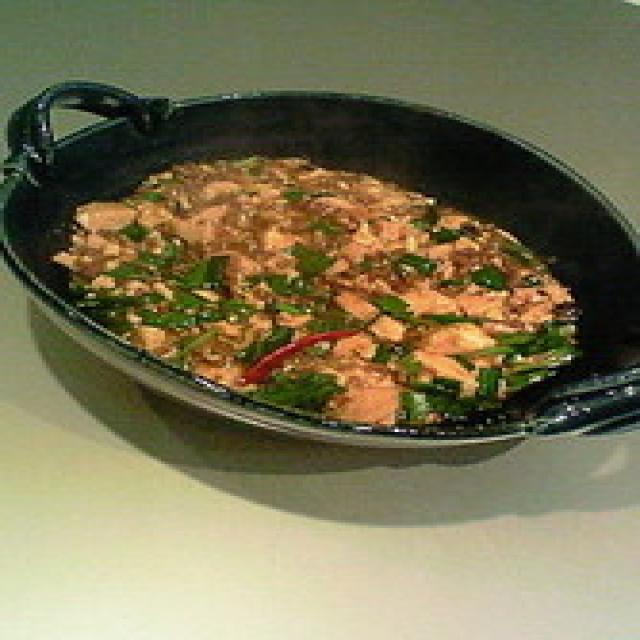豆腐料理: (0, 72, 640, 459)
